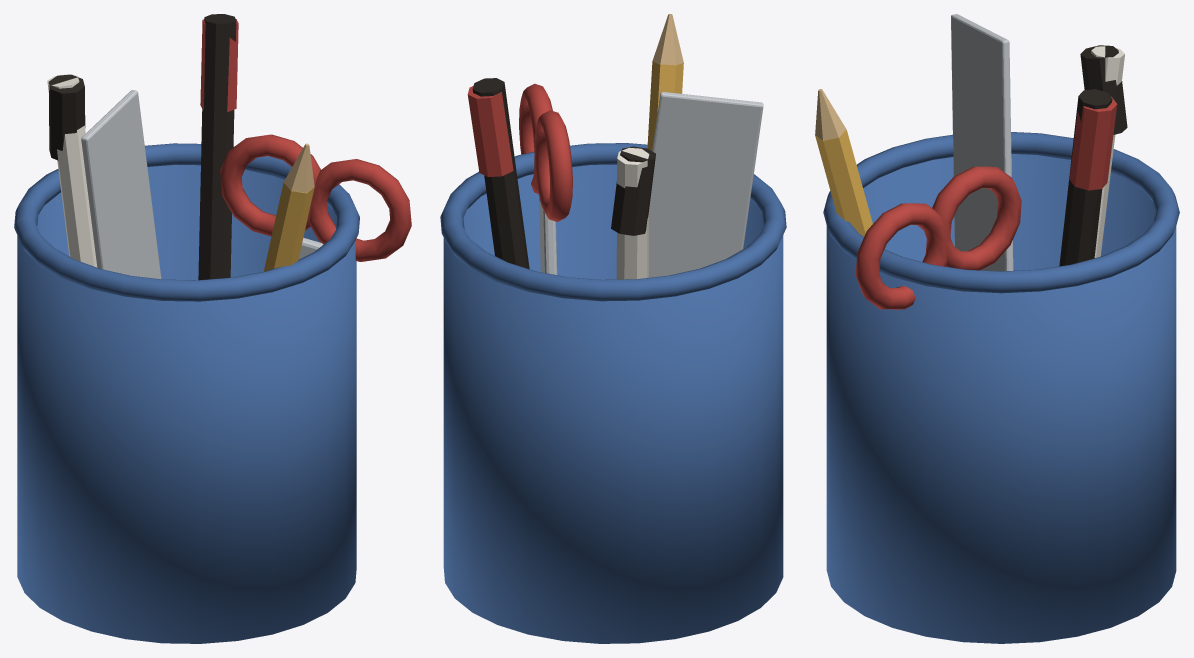
Rendered from hh_cat_pen_pot.glb.
3 views of the same model, side by side, from view 1: azimuth 30°, elevation 25°; view 2: azimuth 150°, elevation 25°; view 3: azimuth 270°, elevation 25° (orthographic). The views are drawn at different scales.
Visible parts, largest first — view 1: pot, rim, ruler, pen, scissor_loop.001, scissor_loop, pen.001, pencil, pen_cap.001, pen_cap, pencil_tip; view 2: pot, ruler, rim, pen, scissor_loop, pen_cap, pen.001, pen_cap.001, scissor_loop.001, pencil, blade, pencil_tip; view 3: pot, rim, ruler, scissor_loop, scissor_loop.001, pen, pen_cap, pencil, pen_cap.001, pen.001, pencil_tip.
Boxes of the visible parts, bbox=[...] form: pot: bbox=[17, 164, 356, 643]; rim: bbox=[14, 143, 359, 301]; ruler: bbox=[81, 90, 161, 279]; pen: bbox=[198, 14, 236, 280]; scissor_loop.001: bbox=[309, 159, 411, 261]; scissor_loop: bbox=[220, 134, 320, 236]; pen.001: bbox=[47, 74, 97, 267]; pencil: bbox=[263, 182, 314, 271]; pen_cap.001: bbox=[48, 74, 85, 160]; pen_cap: bbox=[200, 19, 238, 111]; pencil_tip: bbox=[284, 143, 314, 192]; pot: bbox=[443, 164, 783, 643]; ruler: bbox=[648, 91, 763, 277]; rim: bbox=[440, 143, 786, 301]; pen: bbox=[472, 78, 529, 268]; scissor_loop: bbox=[534, 110, 572, 221]; pen_cap: bbox=[467, 86, 513, 176]; pen.001: bbox=[616, 147, 649, 279]; pen_cap.001: bbox=[611, 146, 655, 235]; scissor_loop.001: bbox=[519, 83, 552, 194]; pencil: bbox=[647, 61, 683, 150]; blade: bbox=[539, 198, 557, 274]; pencil_tip: bbox=[652, 14, 683, 65]; pot: bbox=[826, 153, 1176, 643]; rim: bbox=[823, 132, 1179, 293]; ruler: bbox=[951, 14, 1013, 271]; scissor_loop: bbox=[932, 166, 1021, 270]; scissor_loop.001: bbox=[855, 203, 947, 309]; pen: bbox=[1059, 89, 1112, 266]; pen_cap: bbox=[1069, 96, 1117, 190]; pencil: bbox=[815, 130, 872, 236]; pen_cap.001: bbox=[1080, 45, 1127, 134]; pen.001: bbox=[1091, 46, 1124, 257]; pencil_tip: bbox=[815, 89, 846, 140].
Bounding box in the file's own units: 0.09 × 0.14 × 0.09.
